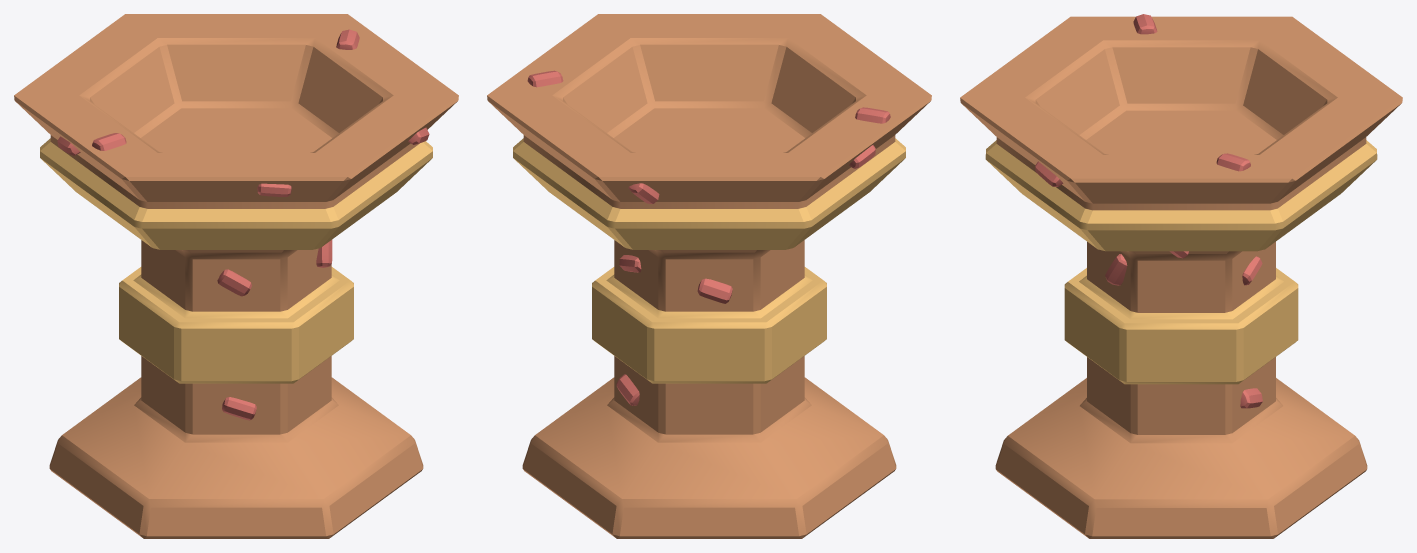
File: cup.fbx
The picture shows the model from 3 angles, left to right: view 1: azimuth 30°, elevation 25°; view 2: azimuth 150°, elevation 25°; view 3: azimuth 270°, elevation 25°; orthographic projection.
Parts seen in each view (by area): view 1: Kupa; view 2: Kupa; view 3: Kupa.
Boxes of the visible parts, x1,y1,x2,y2 form: Kupa: (14, 14, 458, 538); Kupa: (487, 14, 931, 538); Kupa: (960, 14, 1402, 538).
Size of the model in its own units: 30.66 by 33.35 by 35.08.
